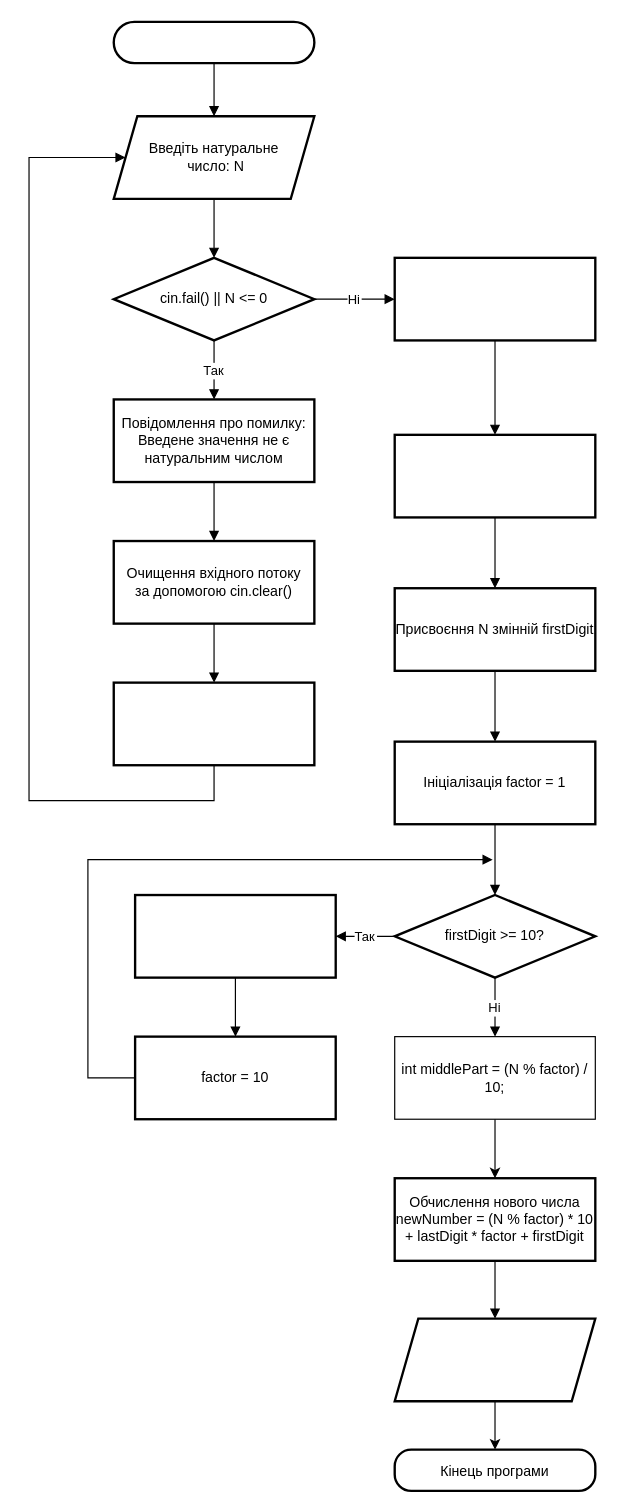
This 617x1512 diagram has some shape labels left out. Here are the shapes that lost their labels. From the top down, the centre of each, then its label:
At (x=213, y=42): "Початок".
At (x=494, y=298): "Зберігається значення N в змінну originalN".
At (x=494, y=475): "Обчислення останньої цифри числа N: lastDigit = N % 10".
At (x=213, y=723): "Ігнорування залишкових даних у вхідному потоці".
At (x=234, y=935): "firstDigit /= 10".
At (x=494, y=1359): "Виведення нового числа".
